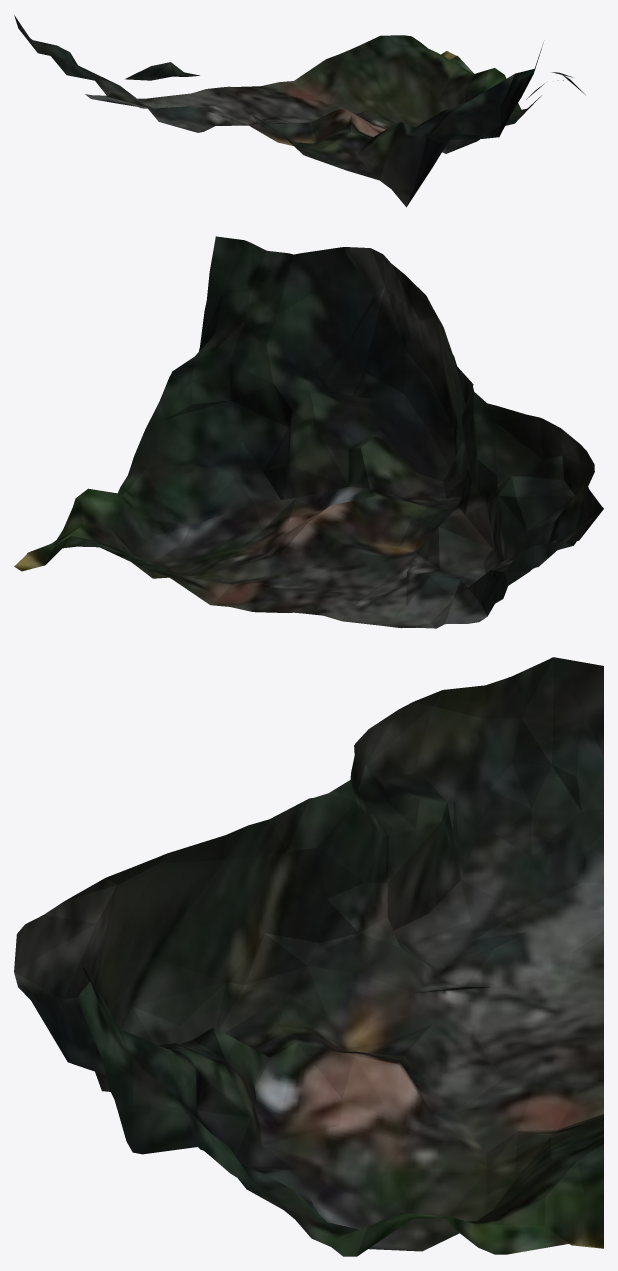
The picture shows the model from 3 angles, top to bottom: view 1: azimuth 30°, elevation 25°; view 2: azimuth 150°, elevation 25°; view 3: azimuth 270°, elevation 25°; orthographic projection. The views are drawn at different scales.
Bounding box in the file's own units: 0.5628 × 0.204 × 0.3927.
Materials: 1 (1 with a texture image).
